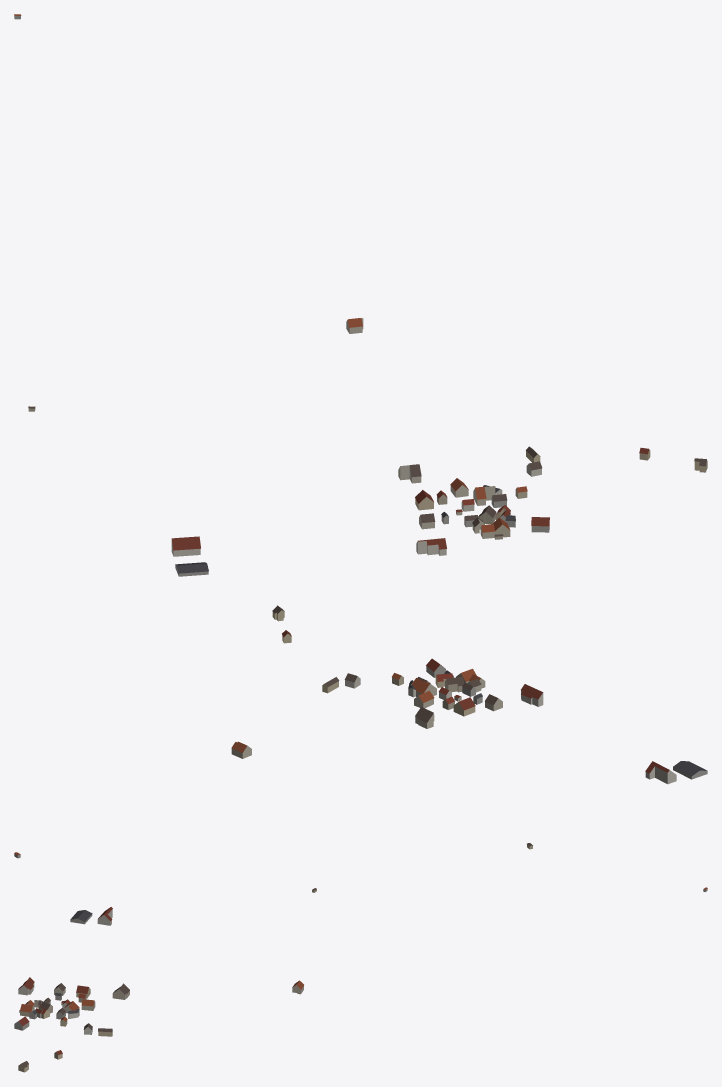
3 views of the same model, one above another, from view 1: azimuth 30°, elevation 25°; view 2: azimuth 150°, elevation 25°; view 3: azimuth 270°, elevation 25° (orthographic). The views are drawn at different scales.
Visible parts, largest first — view 1: buildings; view 2: buildings; view 3: buildings.
Boxes of the visible parts, x1,y1,x2,y2 form: buildings: (14, 14, 707, 576); buildings: (14, 605, 707, 858); buildings: (14, 887, 707, 1072).
Size of the model in its own units: 468 by 159 by 803.
